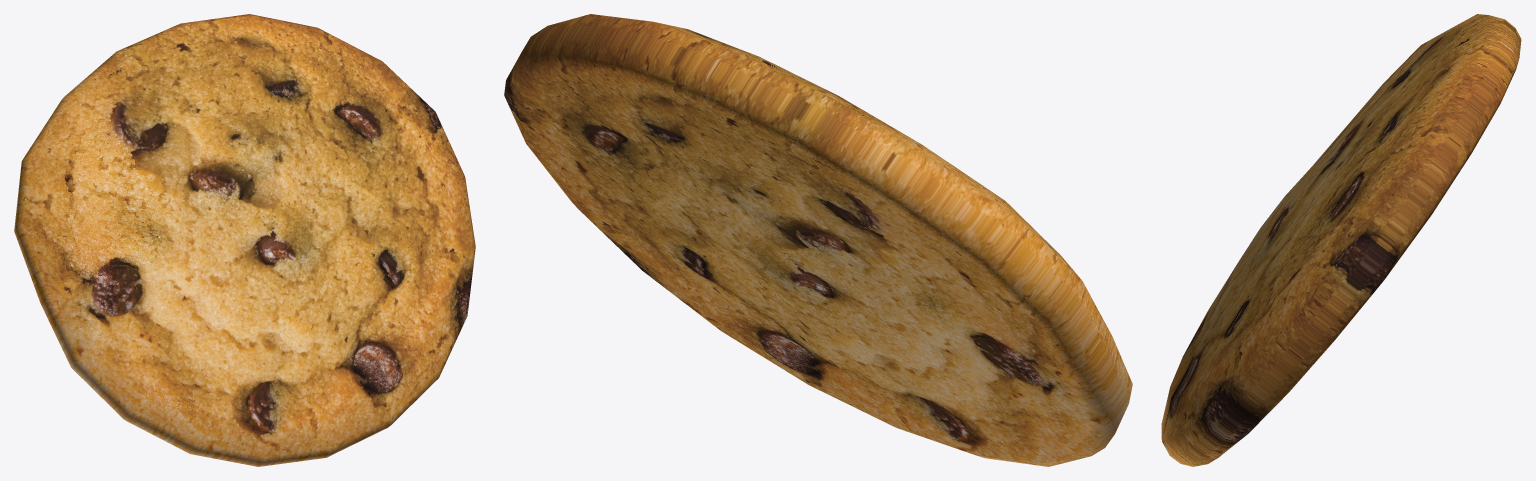
The model's file is cookie_school_project.glb.
3 views of the same model, side by side, from view 1: azimuth 30°, elevation 25°; view 2: azimuth 150°, elevation 25°; view 3: azimuth 270°, elevation 25° (orthographic). The views are drawn at different scales.
Parts seen in each view (by area): view 1: pCylinder15_lambert12_0.002; view 2: pCylinder15_lambert12_0.002; view 3: pCylinder15_lambert12_0.002.
Boxes of the visible parts, <box> form: pCylinder15_lambert12_0.002: <box>14,14,475,466</box>; pCylinder15_lambert12_0.002: <box>504,14,1132,466</box>; pCylinder15_lambert12_0.002: <box>1161,14,1521,466</box>.
Size of the model in its own units: 1.34 by 1.09 by 0.8709.
1 material, 1 textured.
